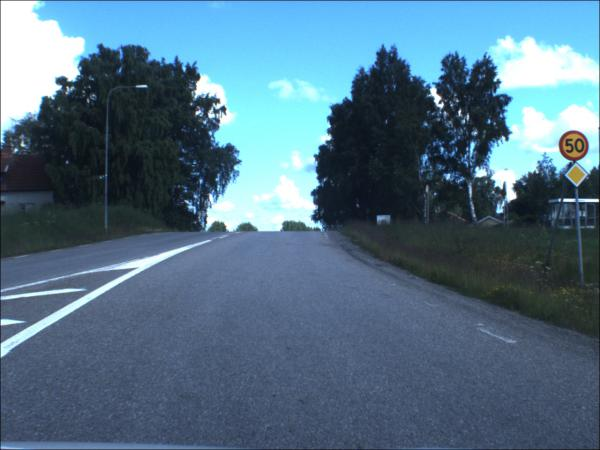50_SIGN: (559, 131, 593, 163)
PRIORITY_ROAD: (566, 163, 591, 189)
